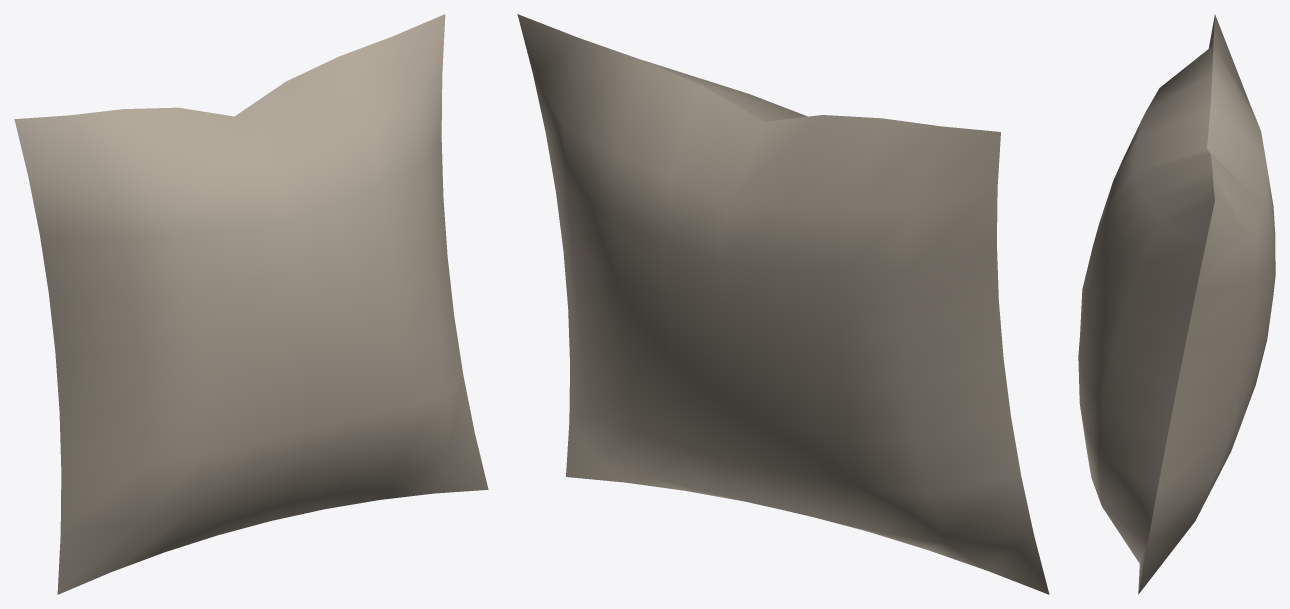
Rendered from decor_c_cushion.gltf.
3 renders of one model, left to right at view 1: azimuth 30°, elevation 25°; view 2: azimuth 150°, elevation 25°; view 3: azimuth 270°, elevation 25°, orthographic. The views are drawn at different scales.
Visible parts, largest first — view 1: DecorC_Cushion_Oat_NoCollide; view 2: DecorC_Cushion_Oat_NoCollide; view 3: DecorC_Cushion_Oat_NoCollide.
Boxes of the visible parts, left/top/right/bottom form: DecorC_Cushion_Oat_NoCollide: left=14, top=14, right=488, bottom=594; DecorC_Cushion_Oat_NoCollide: left=517, top=14, right=1049, bottom=594; DecorC_Cushion_Oat_NoCollide: left=1078, top=14, right=1275, bottom=594.
Size of the model in its own units: 0.5 by 0.4924 by 0.2232.
